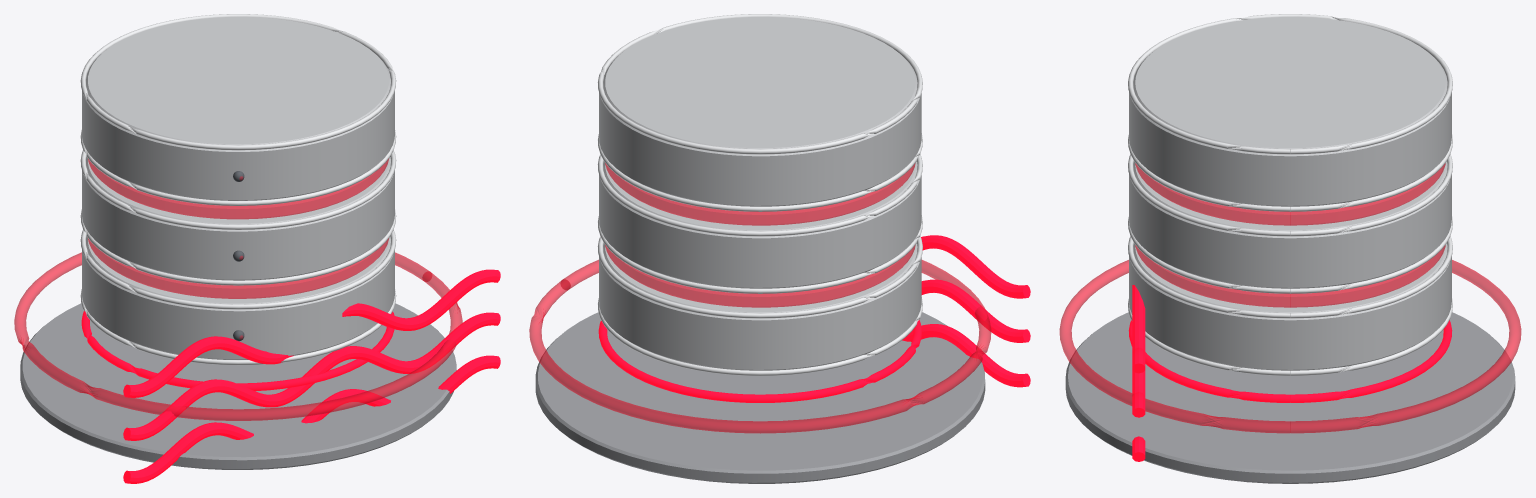
Rendered from 34-lakehouse.glb.
3 views of the same model, side by side, from view 1: azimuth 30°, elevation 25°; view 2: azimuth 150°, elevation 25°; view 3: azimuth 270°, elevation 25° (orthographic). The views are drawn at different scales.
Parts seen in each view (by area): view 1: BC satin iron, BC brushed iron, BC internal ruby light, BC ruby optical glass, BC polished iron bevel; view 2: BC satin iron, BC brushed iron, BC ruby optical glass, BC polished iron bevel, BC internal ruby light; view 3: BC satin iron, BC brushed iron, BC ruby optical glass, BC polished iron bevel, BC internal ruby light.
Part boxes in pixels (box(x1,y1,x2,y2)): BC satin iron: box(82, 17, 394, 359); BC brushed iron: box(20, 303, 456, 469); BC internal ruby light: box(81, 269, 500, 483); BC ruby optical glass: box(14, 158, 462, 420); BC polished iron bevel: box(80, 14, 396, 365); BC satin iron: box(599, 17, 921, 370); BC brushed iron: box(535, 312, 985, 483); BC ruby optical glass: box(529, 163, 991, 433); BC polished iron bevel: box(597, 14, 922, 375); BC internal ruby light: box(598, 235, 1030, 402); BC satin iron: box(1129, 17, 1451, 370); BC brushed iron: box(1065, 312, 1515, 483); BC ruby optical glass: box(1059, 163, 1521, 433); BC polished iron bevel: box(1128, 14, 1452, 375); BC internal ruby light: box(1128, 285, 1452, 461).
Size of the model in its own units: 1.89 by 1.43 by 1.89.
